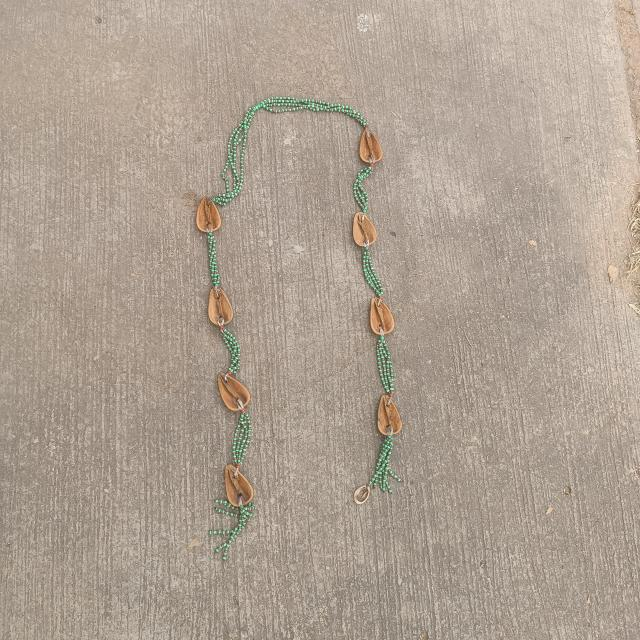faceup: (370, 388, 406, 442), (221, 459, 257, 512), (212, 368, 253, 414), (193, 191, 225, 240), (364, 294, 398, 338), (356, 124, 388, 170), (206, 281, 236, 329), (348, 211, 381, 251)
